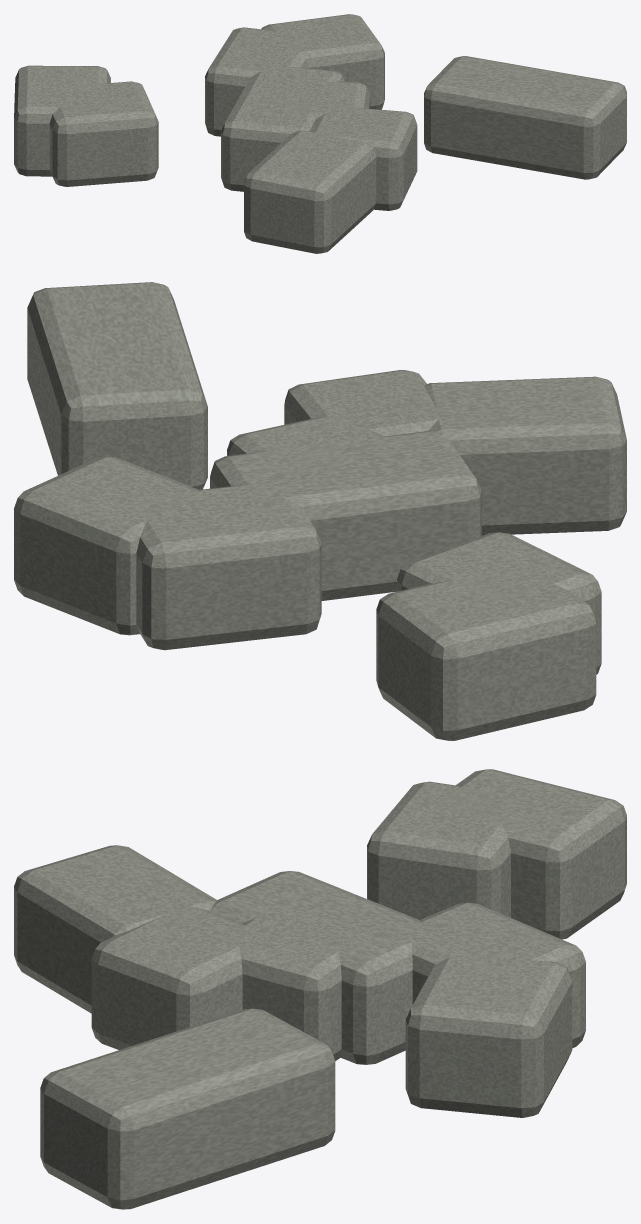
File: debris.glb
3 renders of one model, top to bottom at view 1: azimuth 30°, elevation 25°; view 2: azimuth 150°, elevation 25°; view 3: azimuth 270°, elevation 25°, orthographic. The views are drawn at different scales.
Parts seen in each view (by area): view 1: Debris; view 2: Debris; view 3: Debris.
Part boxes in pixels (x1,y1,x2,y2): Debris: (14,14,626,253); Debris: (14,282,626,740); Debris: (14,769,626,1209).
Size of the model in its own units: 1.76 by 0.24 by 1.29.
Materials: 1 (1 with a texture image).
